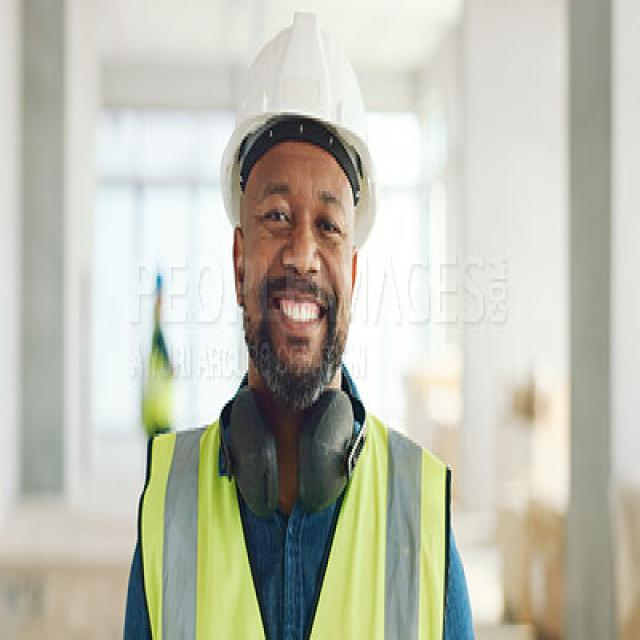helmet: (218, 13, 380, 201)
no-goggles: (229, 182, 364, 258)
vest: (136, 406, 453, 640)
